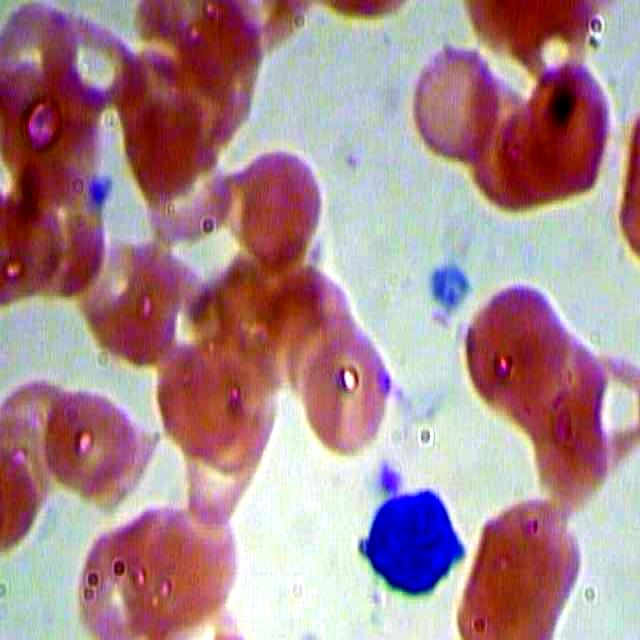Platelets: (419, 252, 478, 315), (80, 170, 115, 214), (372, 457, 406, 499)
RBC: (226, 132, 333, 275), (404, 33, 511, 176), (478, 493, 585, 636), (287, 317, 394, 460), (40, 369, 147, 512), (80, 221, 187, 364), (144, 488, 251, 631), (142, 485, 249, 628), (511, 51, 618, 193), (457, 275, 564, 417), (143, 327, 250, 469), (109, 55, 216, 197), (460, 79, 567, 221), (1, 171, 106, 313), (61, 510, 169, 640), (40, 1, 149, 127), (165, 1, 274, 127), (1, 370, 79, 506), (570, 341, 640, 476)
WBC: (352, 485, 475, 596)
